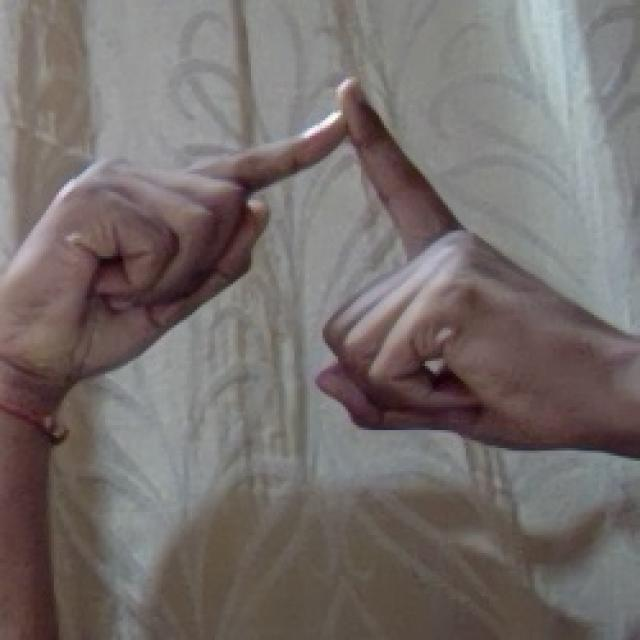Alphabet-E: (1, 79, 640, 640)
